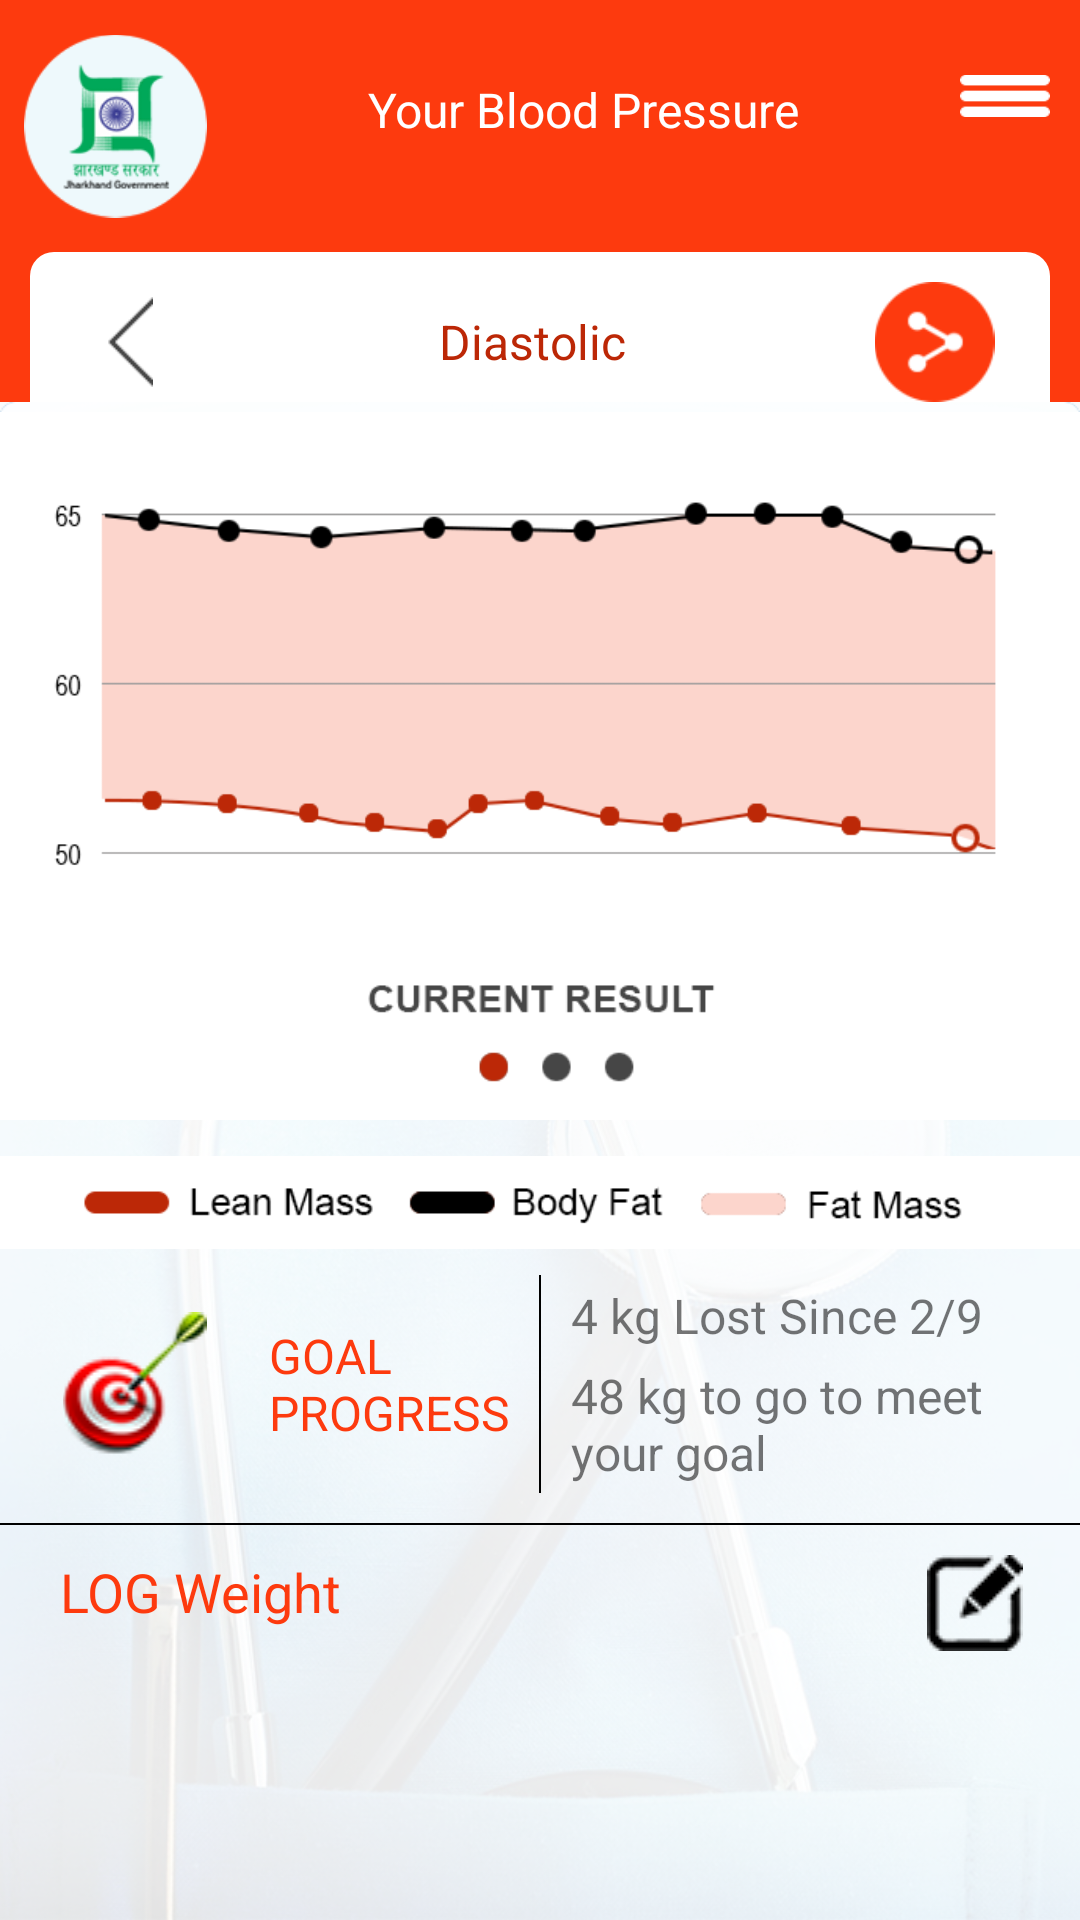

Icon bounding boxes for this 1080×1920 phone screenshot, format (x1, y1, x2, y2):
back: (108, 297, 153, 387)
edit: (927, 1555, 1023, 1651)
menu: (960, 75, 1050, 117)
share: (875, 282, 995, 402)
